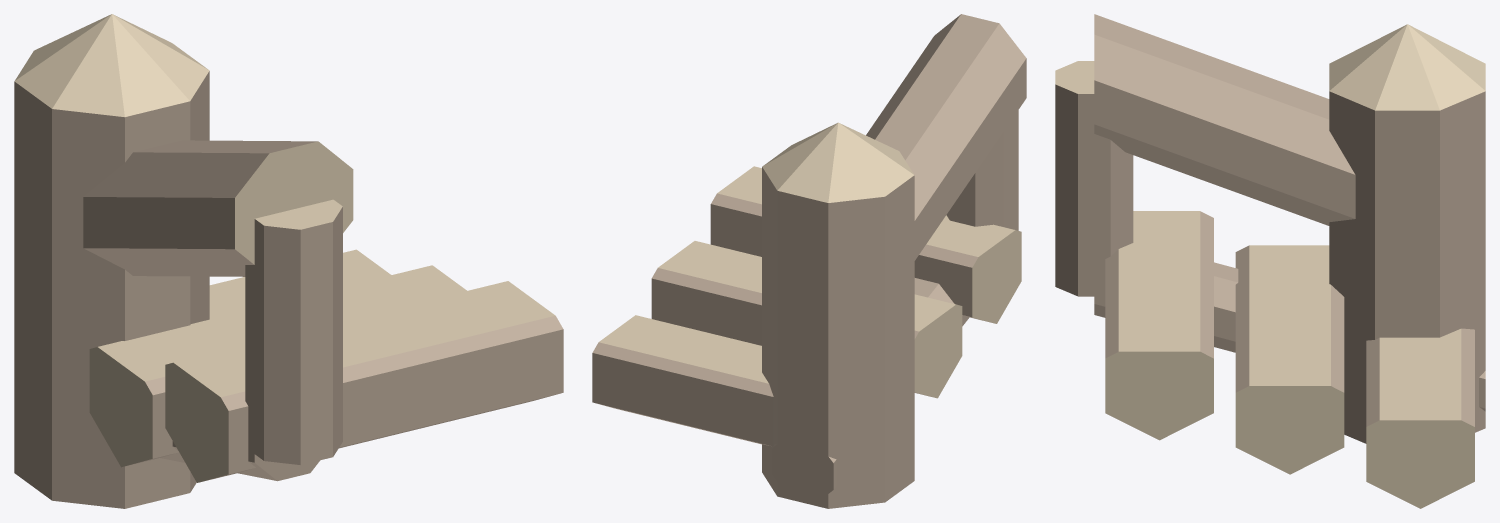
File: Prop_Bridge_Log_End_Edge.glb
The picture shows the model from 3 angles, left to right: view 1: azimuth 30°, elevation 25°; view 2: azimuth 150°, elevation 25°; view 3: azimuth 270°, elevation 25°; orthographic projection. The views are drawn at different scales.
Visible parts, largest first — view 1: object4, object7, object2, object3, object6, object5, object1; view 2: object4, object2, object5, object6, object7, object3, object1; view 3: object4, object2, object6, object7, object5, object3, object1.
Part boxes in pixels (box(x1,y1,x2,y2)): object4: box(14, 14, 209, 508); object7: box(165, 281, 563, 482); object2: box(83, 140, 353, 276); object3: box(245, 199, 342, 464); object6: box(89, 265, 466, 467); object5: box(209, 249, 391, 319); object1: box(160, 427, 319, 481); object4: box(762, 122, 914, 508); object2: box(866, 14, 1026, 260); object5: box(592, 315, 773, 446); object6: box(651, 241, 962, 398); object7: box(710, 166, 1021, 323); object3: box(946, 110, 1018, 230); object1: box(772, 278, 969, 504); object4: box(1329, 24, 1485, 443); object2: box(1094, 14, 1355, 225); object6: box(1235, 245, 1344, 474); object7: box(1105, 211, 1213, 440); object5: box(1366, 328, 1474, 508); object3: box(1055, 61, 1133, 296); object1: box(1094, 262, 1485, 411).
Size of the model in its own units: 0.9 by 1.1 by 1.1.
